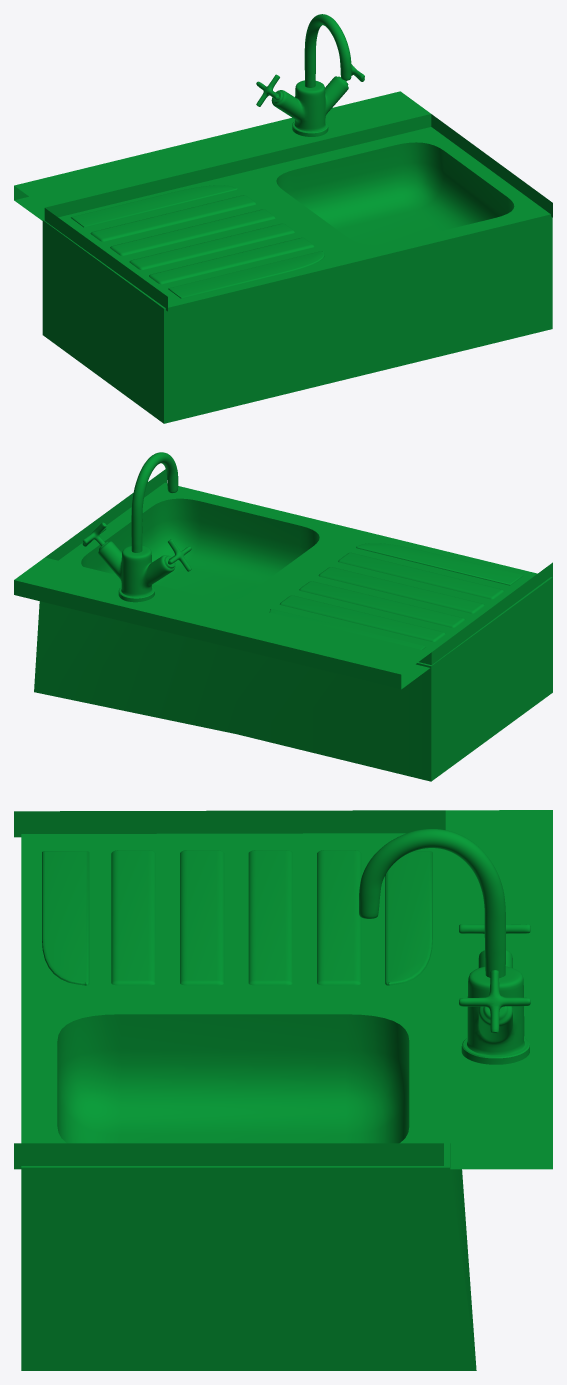
File: A_JD_Evier.fbx
3 renders of one model, top to bottom at view 1: azimuth 30°, elevation 25°; view 2: azimuth 150°, elevation 25°; view 3: azimuth 270°, elevation 25°, orthographic. The views are drawn at different scales.
Parts seen in each view (by area): view 1: Evier; view 2: Evier; view 3: Evier.
Part boxes in pixels (bbox=[...]): Evier: bbox=[14, 14, 552, 423]; Evier: bbox=[14, 452, 552, 781]; Evier: bbox=[14, 810, 552, 1370].
Bounding box in the file's own units: 110 × 68.45 × 74.65.
